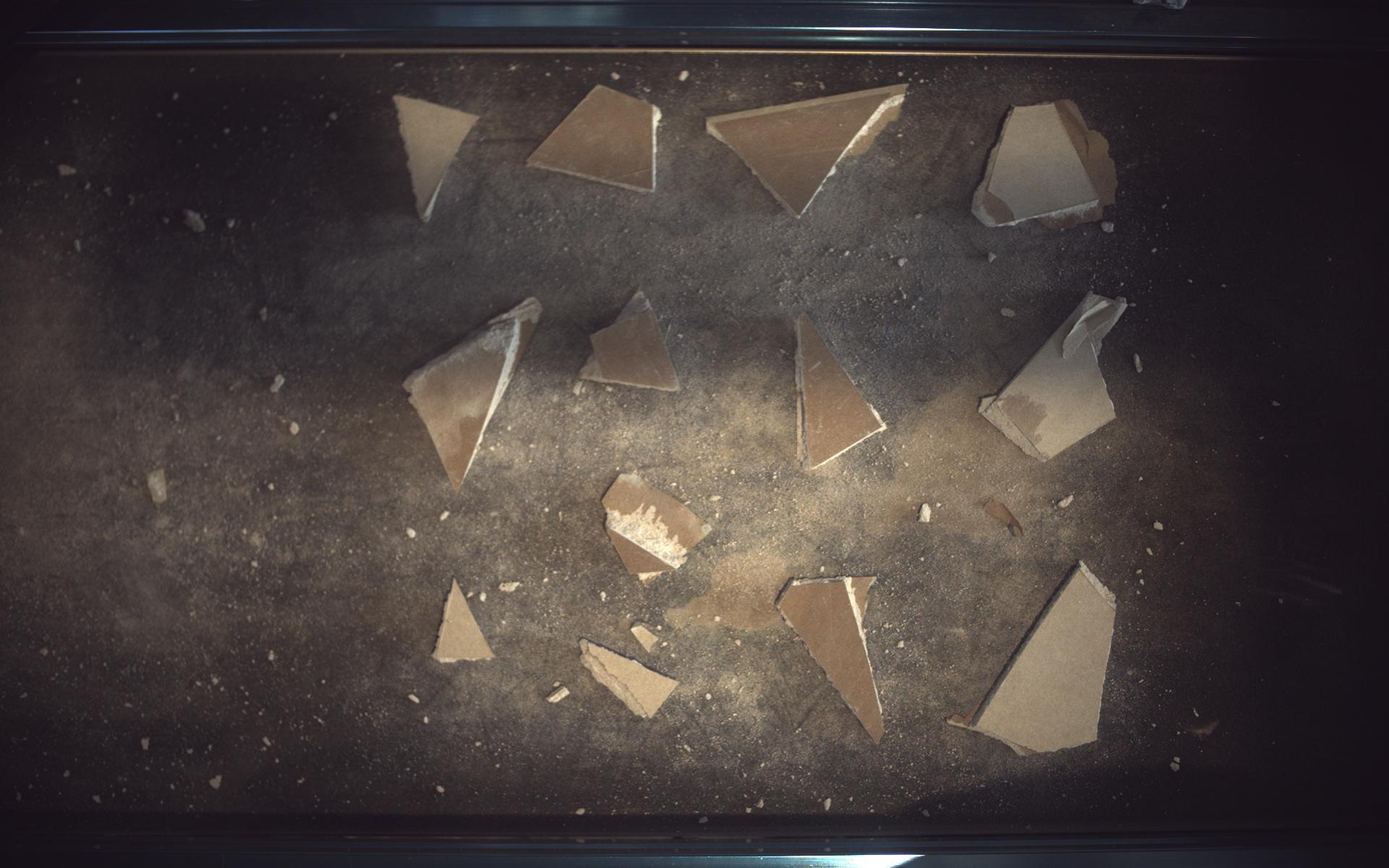gypsum_board: (951, 561, 1118, 757), (708, 82, 909, 216), (404, 297, 543, 490), (981, 292, 1130, 461), (974, 99, 1120, 227), (779, 576, 886, 744), (527, 83, 662, 192), (797, 313, 888, 470), (603, 474, 713, 584), (393, 94, 479, 221), (579, 289, 681, 391), (580, 640, 679, 719), (433, 579, 494, 663)
